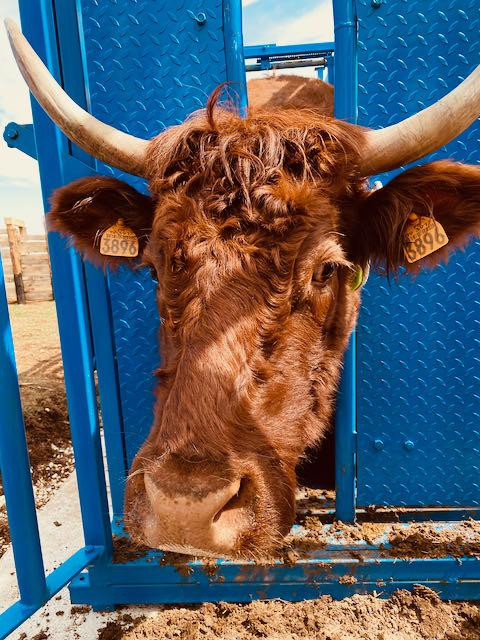muzzles: (115, 452, 298, 567)
